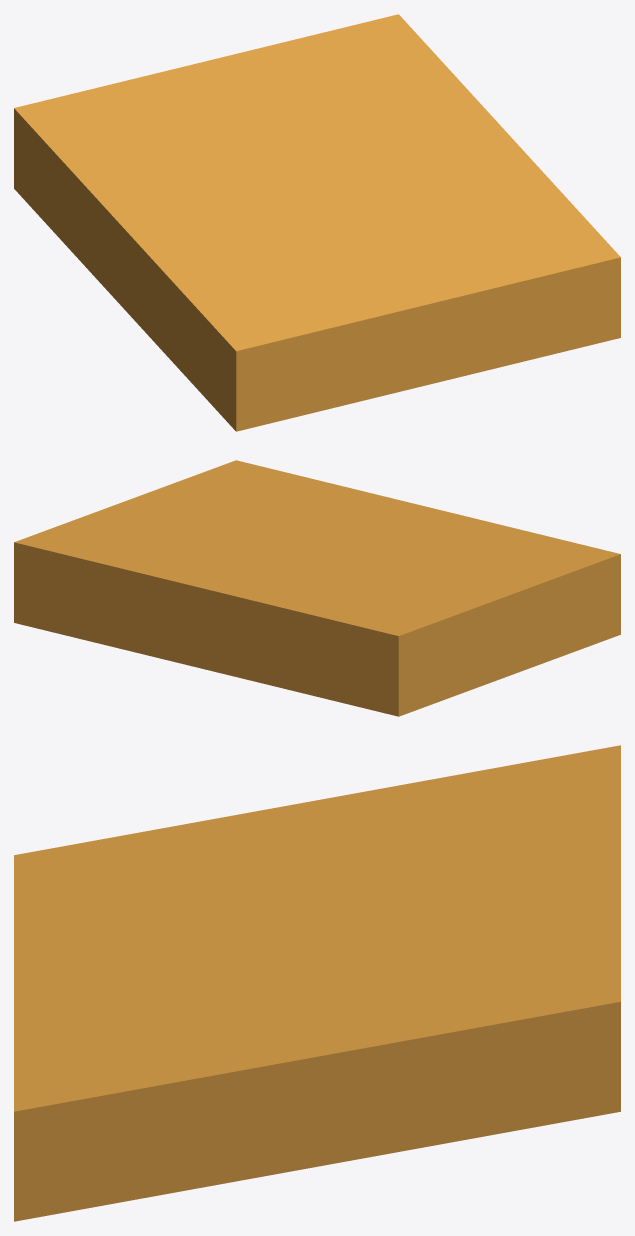
Rendered from tile-sidewalk-hill.glb.
The picture shows the model from 3 angles, top to bottom: view 1: azimuth 30°, elevation 25°; view 2: azimuth 150°, elevation 25°; view 3: azimuth 270°, elevation 25°; orthographic projection. The views are drawn at different scales.
Visible parts, largest first — view 1: tile-sidewalk-hill; view 2: tile-sidewalk-hill; view 3: tile-sidewalk-hill.
Boxes of the visible parts, box(x1,y1,x2,y2) form: tile-sidewalk-hill: box(14, 14, 620, 431); tile-sidewalk-hill: box(14, 460, 620, 716); tile-sidewalk-hill: box(14, 745, 620, 1221).
Size of the model in its own units: 30 by 12 by 30.
